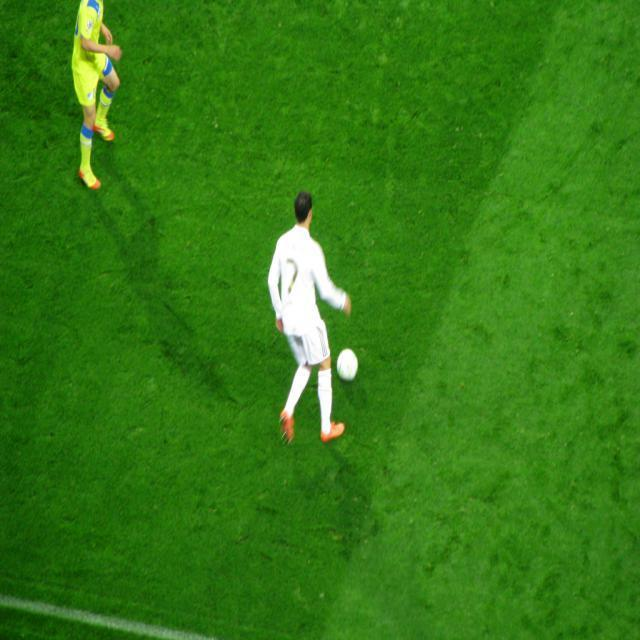football: (323, 339, 387, 386)
